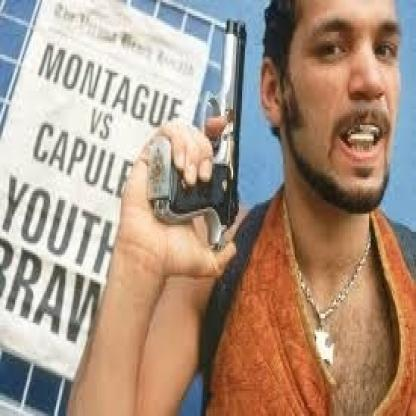Pistol: (144, 7, 245, 225)
